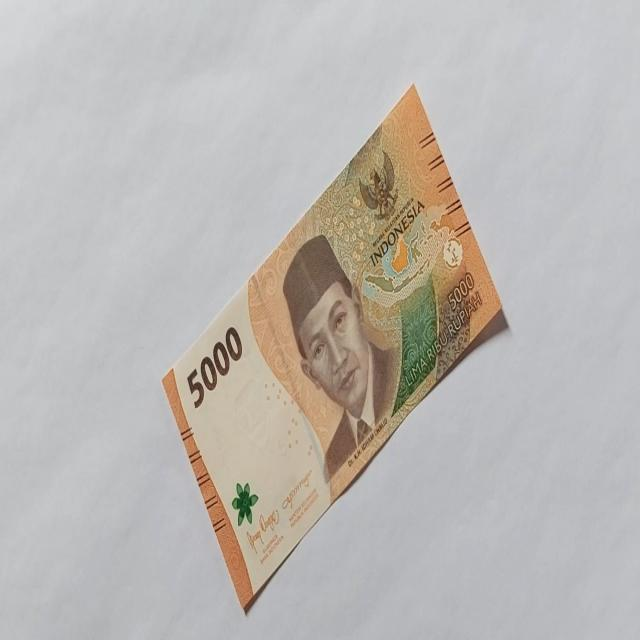lima ribu rupiah: (160, 84, 510, 616), (281, 232, 401, 483)
